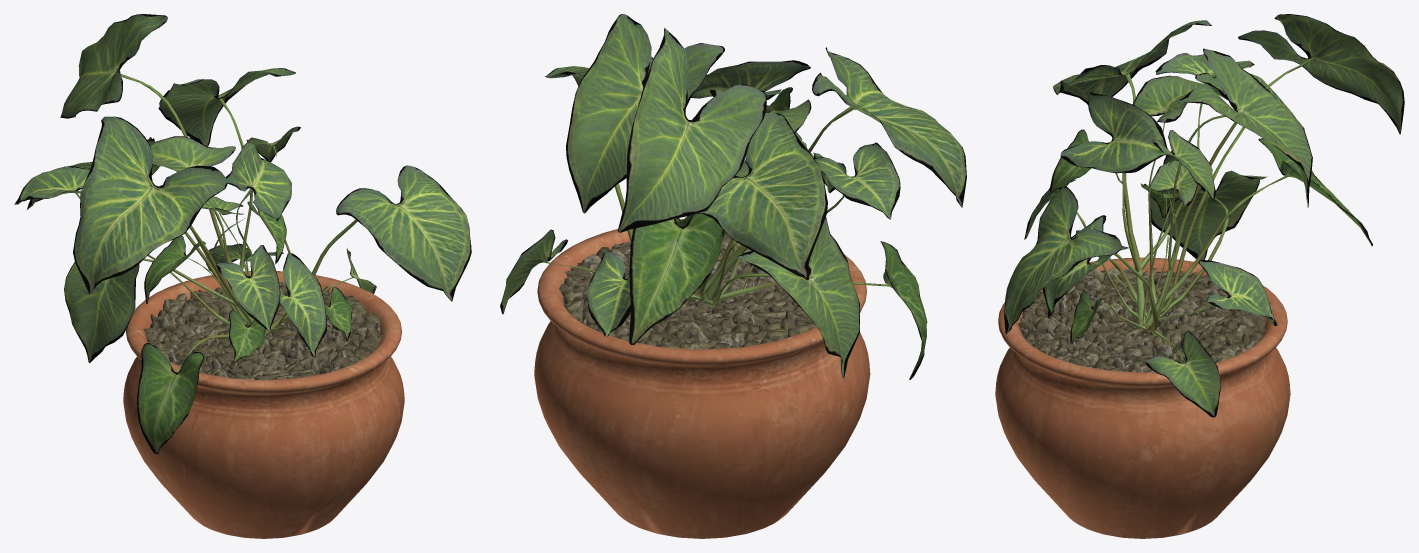
Rendered from potted_plant_02.glb.
The picture shows the model from 3 angles, left to right: view 1: azimuth 30°, elevation 25°; view 2: azimuth 150°, elevation 25°; view 3: azimuth 270°, elevation 25°; orthographic projection. The views are drawn at different scales.
Visible parts, largest first — view 1: potted_plant_02_leaves, potted_plant_02_pot; view 2: potted_plant_02_leaves, potted_plant_02_pot; view 3: potted_plant_02_pot, potted_plant_02_leaves.
Part boxes in pixels (x1,y1,x2,y2): potted_plant_02_leaves: [14, 14, 471, 453]; potted_plant_02_pot: [123, 271, 404, 538]; potted_plant_02_leaves: [500, 14, 966, 379]; potted_plant_02_pot: [534, 219, 870, 538]; potted_plant_02_pot: [995, 257, 1290, 538]; potted_plant_02_leaves: [1004, 14, 1404, 417].
Size of the model in its own units: 0.7009 by 0.8412 by 0.6574.
Materials: 2 (2 with a texture image).
